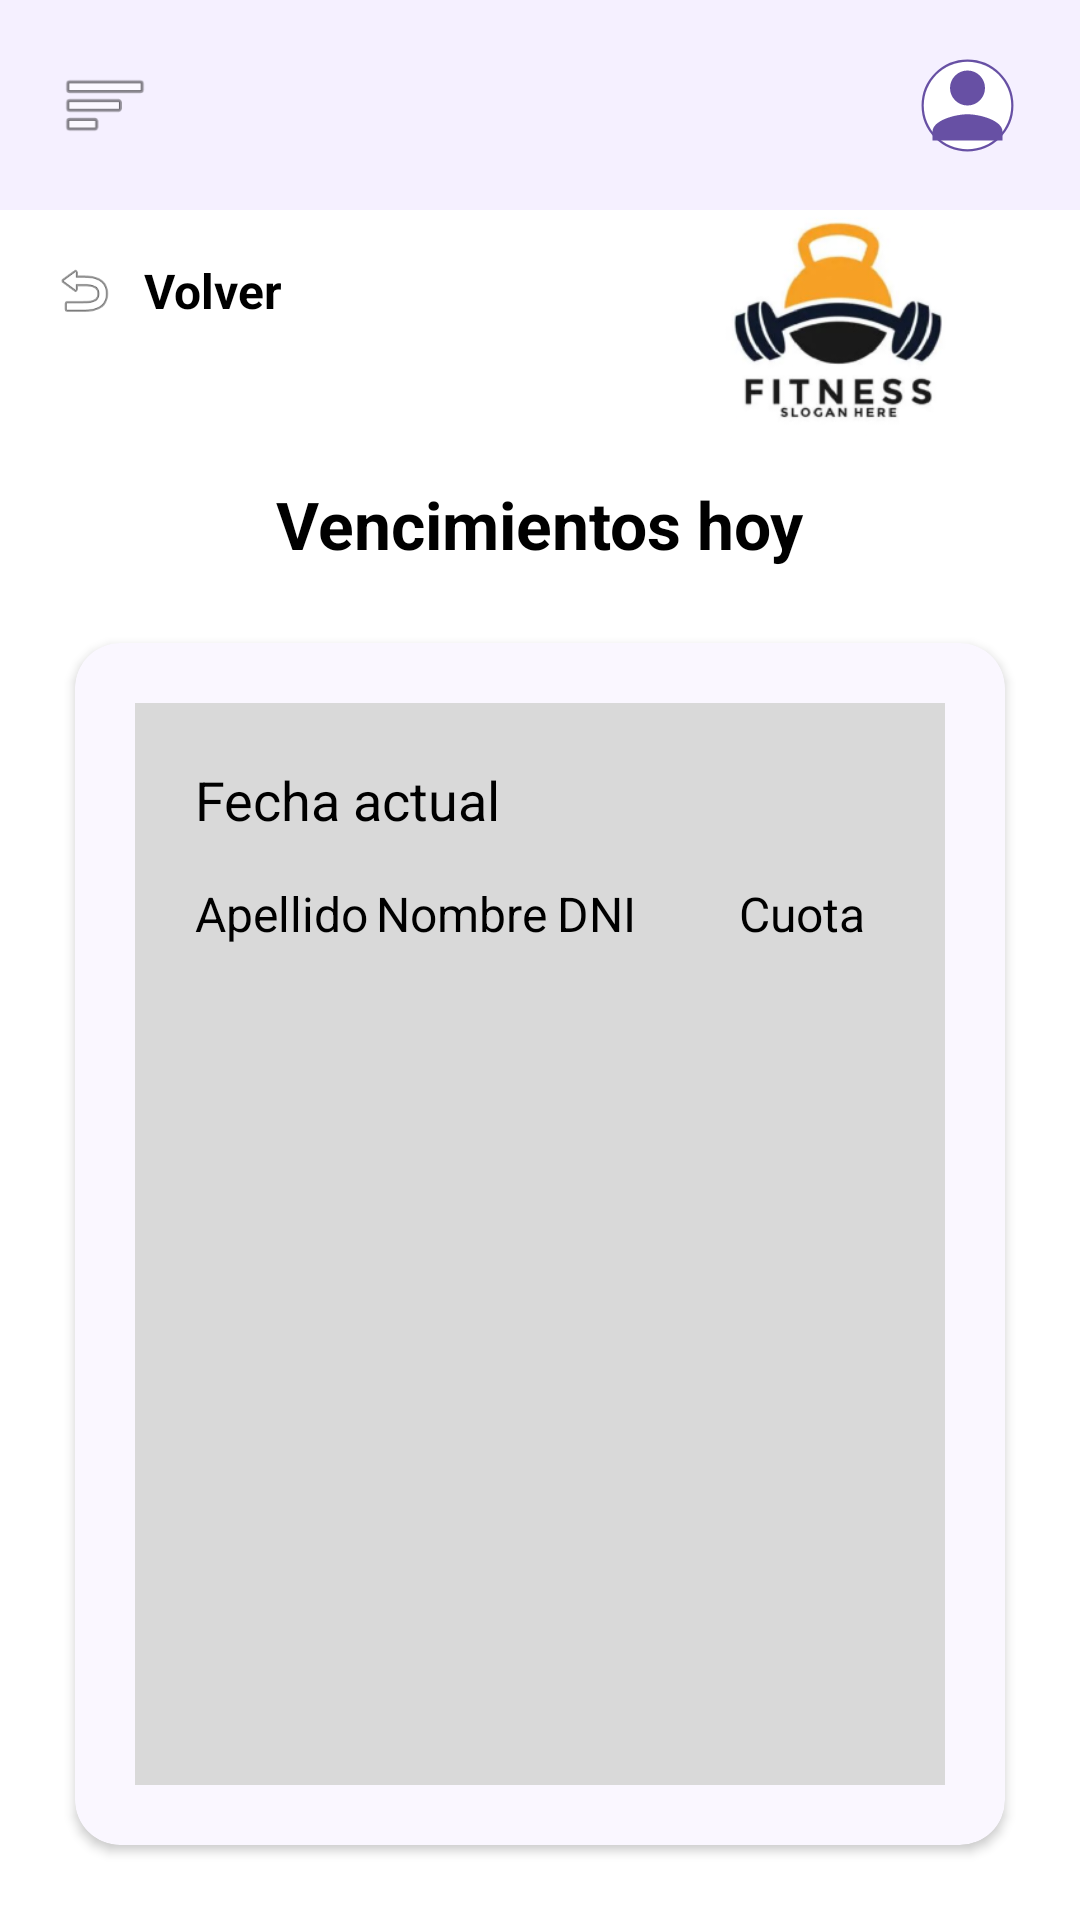

Screen size 1080px x 1920px. Icon name, then its box in pixels as (x1, y1, x2, y2):
revert: (61, 270, 108, 312)
sort by size: (66, 80, 144, 131)
